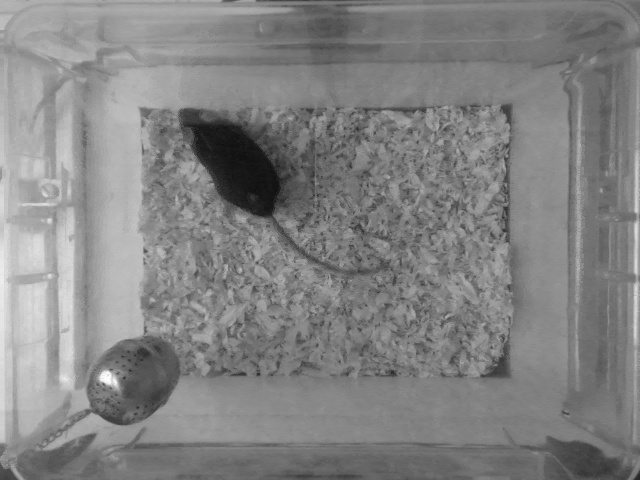mice: (173, 107, 374, 279)
